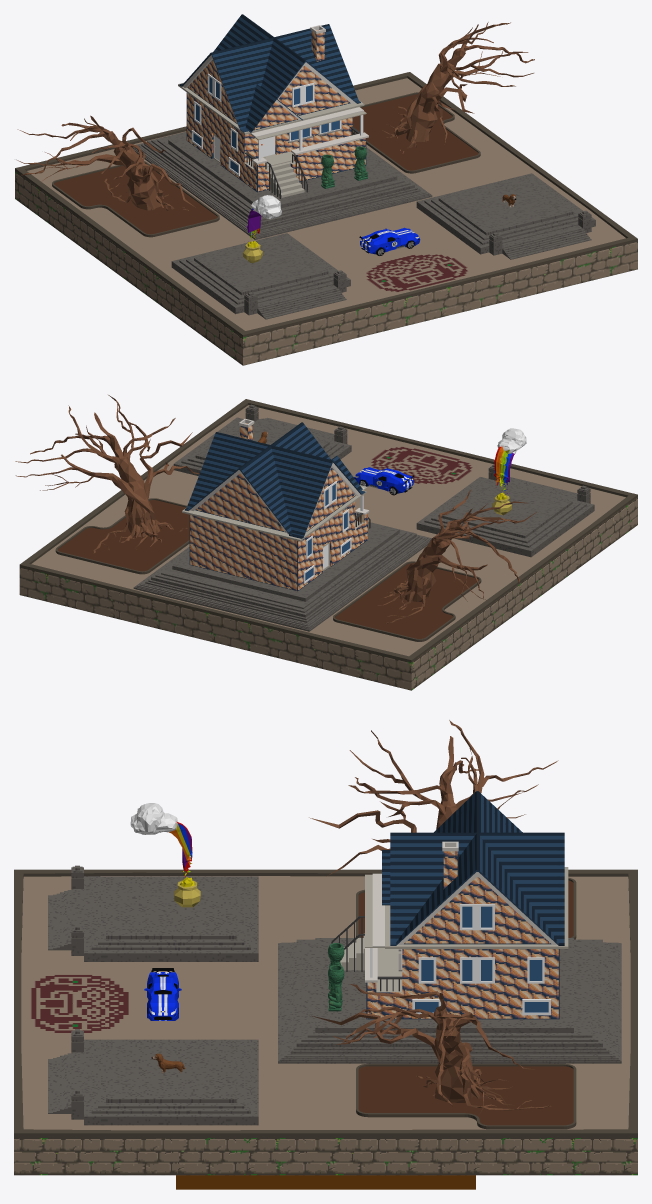
The picture shows the model from 3 angles, top to bottom: view 1: azimuth 30°, elevation 25°; view 2: azimuth 150°, elevation 25°; view 3: azimuth 270°, elevation 25°; orthographic projection. The views are drawn at different scales.
Parts seen in each view (by area): view 1: Cube.011, Cube.430, OBJRANDOM_RAINBOW, VEHICLES_RACING_CAR; view 2: Cube.011, Cube.430, OBJRANDOM_RAINBOW, VEHICLES_RACING_CAR; view 3: Cube.011, Cube.430, UNDERGROUND_ART_PIECE_VAN_GOGH, OBJRANDOM_RAINBOW, VEHICLES_RACING_CAR.
Boxes of the visible parts, left/top/right/bottom form: Cube.011: left=15, top=22, right=637, bottom=365; Cube.430: left=178, top=14, right=368, bottom=198; OBJRANDOM_RAINBOW: left=243, top=195, right=281, bottom=263; VEHICLES_RACING_CAR: left=359, top=227, right=420, bottom=255; Cube.011: left=15, top=395, right=637, bottom=690; Cube.430: left=182, top=418, right=370, bottom=591; OBJRANDOM_RAINBOW: left=492, top=428, right=526, bottom=515; VEHICLES_RACING_CAR: left=354, top=467, right=413, bottom=495; Cube.011: left=14, top=720, right=637, bottom=1175; Cube.430: left=331, top=791, right=568, bottom=1019; UNDERGROUND_ART_PIECE_VAN_GOGH: left=176, top=1175, right=475, bottom=1189; OBJRANDOM_RAINBOW: left=130, top=803, right=200, bottom=907; VEHICLES_RACING_CAR: left=144, top=968, right=181, bottom=1020.
Bounding box in the file's own units: 5099 × 1785 × 4000.
40 materials, 7 textured.
